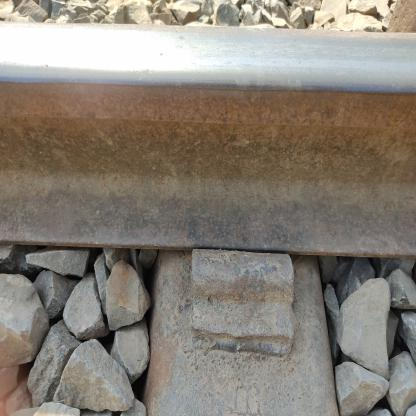Defective 1: (157, 213, 337, 373)
